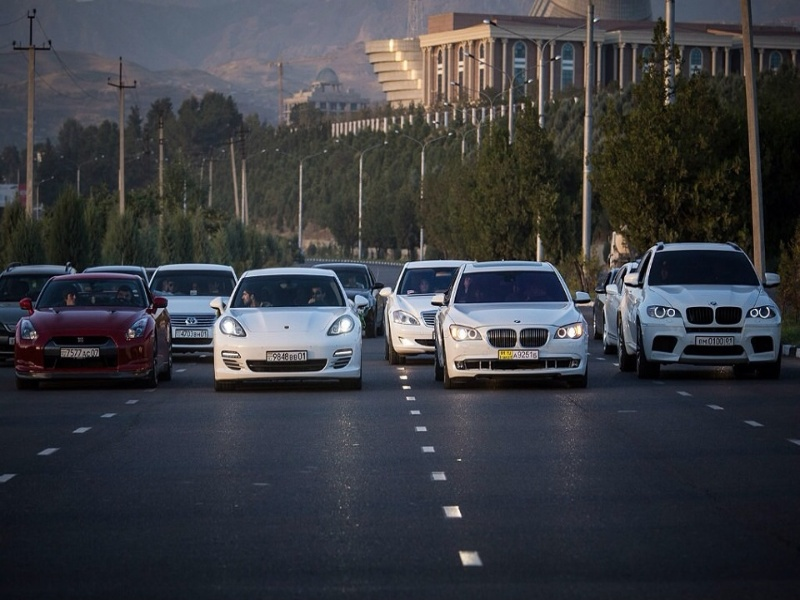car: (617, 242, 782, 375), (433, 260, 592, 385), (209, 268, 369, 385), (16, 273, 173, 385), (380, 260, 473, 362), (149, 264, 239, 352), (1, 261, 74, 359), (311, 262, 386, 337)
person: (242, 287, 269, 306), (307, 286, 326, 305), (115, 285, 133, 300), (63, 290, 79, 304), (417, 277, 430, 292)
plate: (266, 350, 307, 363), (498, 349, 538, 360), (698, 337, 732, 346), (60, 349, 98, 357), (176, 330, 207, 337)
